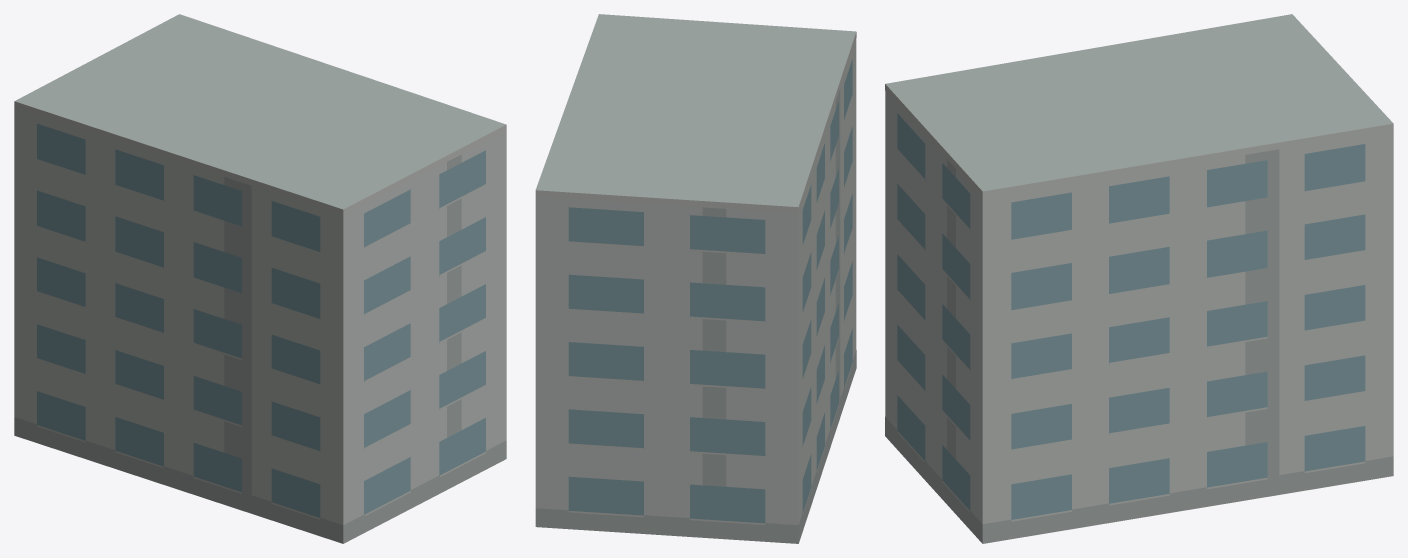
Rendered from survey-upis-32941064.glb.
3 views of the same model, side by side, from view 1: azimuth 30°, elevation 25°; view 2: azimuth 150°, elevation 25°; view 3: azimuth 270°, elevation 25° (orthographic). The views are drawn at different scales.
Parts seen in each view (by area): view 1: survey-upis-32941064.tmp; view 2: survey-upis-32941064.tmp; view 3: survey-upis-32941064.tmp.
Boxes of the visible parts, left/top/right/bottom form: survey-upis-32941064.tmp: left=14, top=14, right=506, bottom=543; survey-upis-32941064.tmp: left=535, top=14, right=856, bottom=543; survey-upis-32941064.tmp: left=885, top=14, right=1393, bottom=543.
Size of the model in its own units: 13.84 by 12.8 by 16.75.
